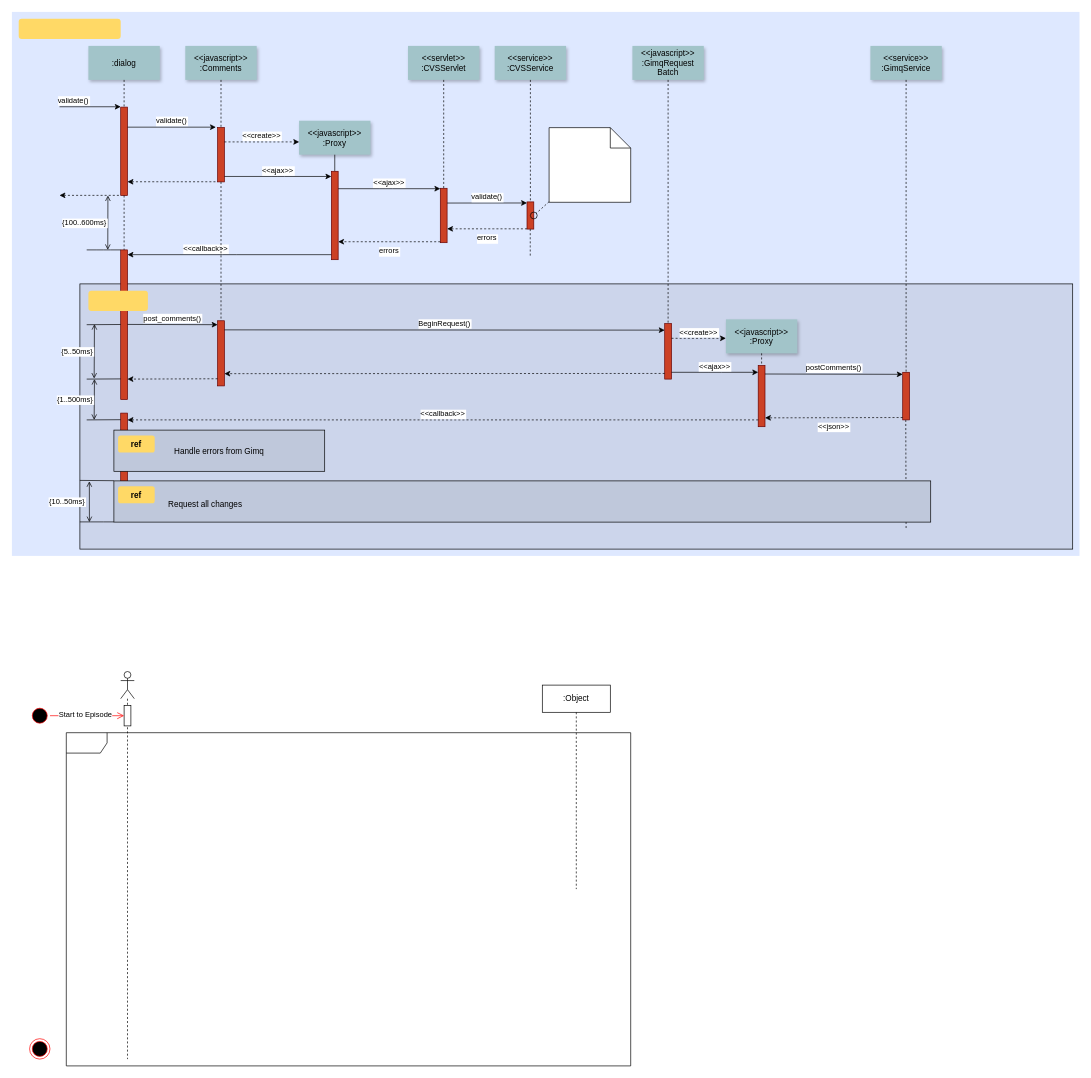
The diagram is 1091 pixels wide and 1078 high, and some of its shapes have lost their labels. The shapes that lost their labels are listed below. From the top down, each one's centre as x and y in pixels, then its label:
[69,28]: rt submit_changes
[589,164]: - user validation - password check
[118,300]: opt
[348,899]: loop
